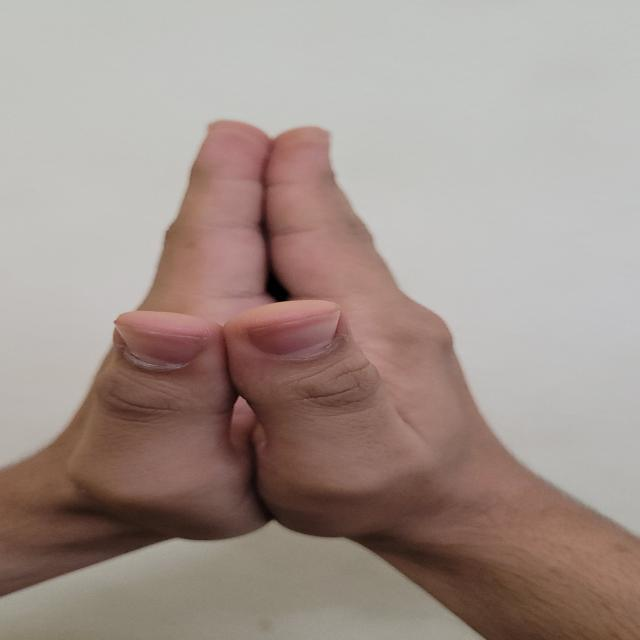Thank You: (47, 99, 560, 565)
